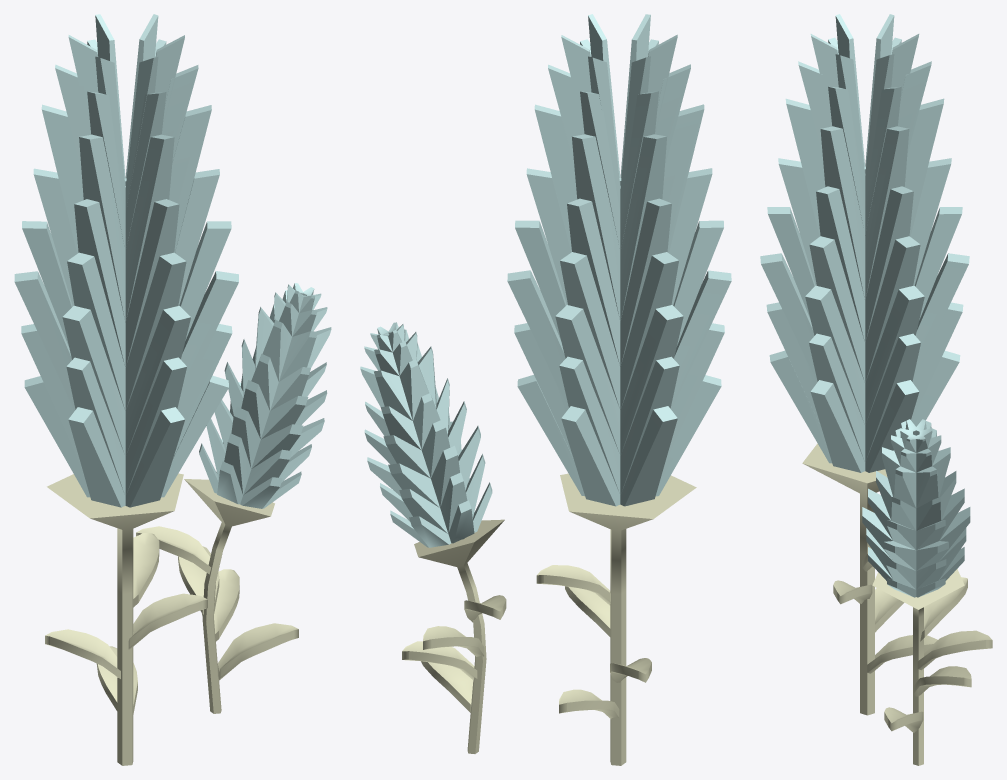
File: Flor06.gltf
The picture shows the model from 3 angles, left to right: view 1: azimuth 30°, elevation 25°; view 2: azimuth 150°, elevation 25°; view 3: azimuth 270°, elevation 25°; orthographic projection. The views are drawn at different scales.
Visible parts, largest first — view 1: pPipe23, pPipe27, pPipe22, pPipe26, pCube24, pCube16, pCube15, pCube17, pCube23, pCube25, pCube22, pCube14; view 2: pPipe23, pPipe27, pPipe22, pPipe26, pCube17, pCube25, pCube24, pCube22, pCube14, pCube16, pCube23, pCube15; view 3: pPipe23, pPipe27, pPipe22, pPipe26, pCube22, pCube25, pCube23, pCube14, pCube24, pCube15, pCube16.
Boxes of the visible parts, <box> form: pPipe23: <box>14,14,238,507</box>; pPipe27: <box>199,283,331,508</box>; pPipe22: <box>47,473,183,765</box>; pPipe26: <box>184,479,274,713</box>; pCube24: <box>217,623,298,680</box>; pCube16: <box>128,593,207,649</box>; pCube15: <box>45,629,120,678</box>; pCube17: <box>133,533,159,607</box>; pCube23: <box>136,526,211,574</box>; pCube25: <box>202,569,239,641</box>; pCube22: <box>178,546,219,614</box>; pCube14: <box>96,646,137,714</box>; pPipe23: <box>507,14,731,506</box>; pPipe27: <box>360,322,492,547</box>; pPipe22: <box>560,473,696,765</box>; pPipe26: <box>414,519,504,753</box>; pCube17: <box>536,565,610,605</box>; pCube25: <box>402,641,477,680</box>; pCube24: <box>421,661,473,712</box>; pCube22: <box>423,626,484,656</box>; pCube14: <box>559,689,619,718</box>; pCube16: <box>565,586,610,636</box>; pCube23: <box>464,595,506,622</box>; pCube15: <box>610,658,651,682</box>; pPipe23: <box>760,14,969,472</box>; pPipe27: <box>862,419,970,597</box>; pPipe22: <box>802,443,887,715</box>; pPipe26: <box>872,569,964,765</box>; pCube22: <box>917,630,992,670</box>; pCube25: <box>913,666,971,696</box>; pCube23: <box>920,577,967,641</box>; pCube14: <box>867,635,937,673</box>; pCube24: <box>884,707,923,732</box>; pCube15: <box>875,588,904,632</box>; pCube16: <box>833,580,872,604</box>.
Bounding box in the file's own units: 0.4061 × 0.9022 × 0.2805.
